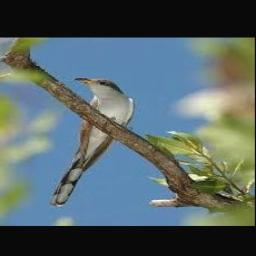Cuckoo: (51, 77, 135, 207)
